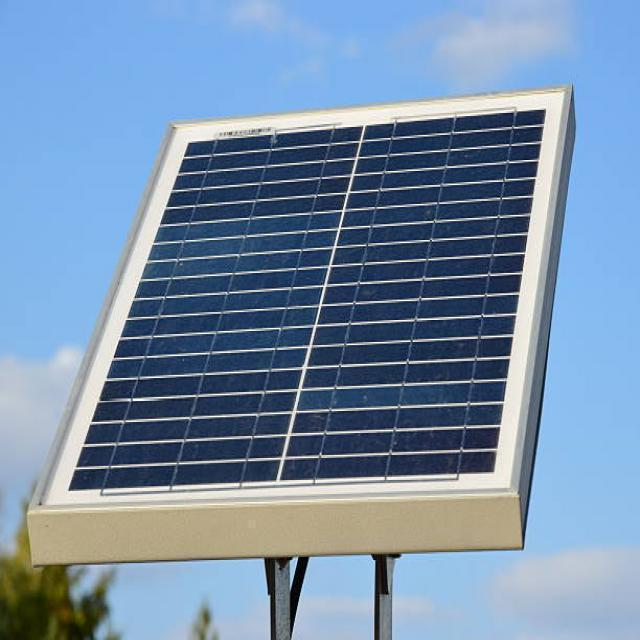Normal Solar Panel: (35, 86, 575, 510)
